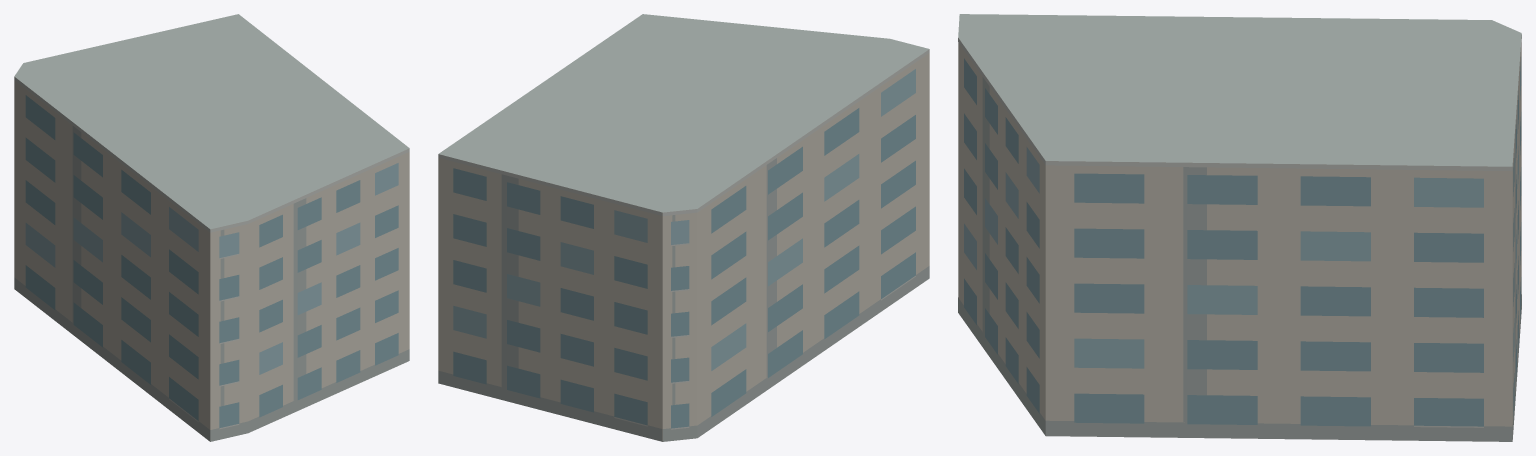
The model's file is survey-upis-32697054.glb.
3 views of the same model, side by side, from view 1: azimuth 30°, elevation 25°; view 2: azimuth 150°, elevation 25°; view 3: azimuth 270°, elevation 25° (orthographic). The views are drawn at different scales.
Visible parts, largest first — view 1: survey-upis-32697054.tmp; view 2: survey-upis-32697054.tmp; view 3: survey-upis-32697054.tmp.
Part boxes in pixels (x1,y1,x2,y2): survey-upis-32697054.tmp: (14,14,409,441); survey-upis-32697054.tmp: (438,14,929,441); survey-upis-32697054.tmp: (958,14,1521,441).
Bounding box in the file's own units: 18.17 × 15.25 × 28.32.
